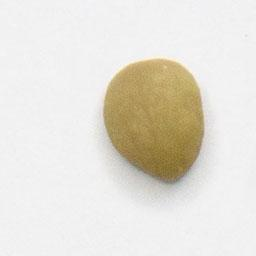premium: (101, 55, 207, 187)
